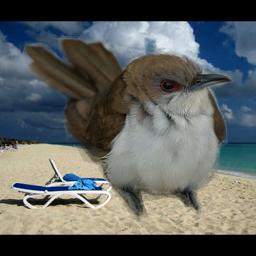Cuckoo: (23, 36, 234, 224)
